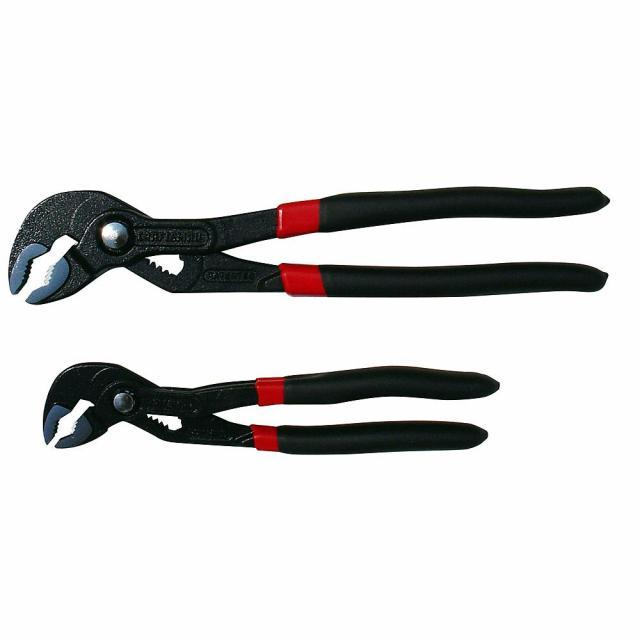pliers: (2, 172, 624, 314), (34, 350, 504, 470)
